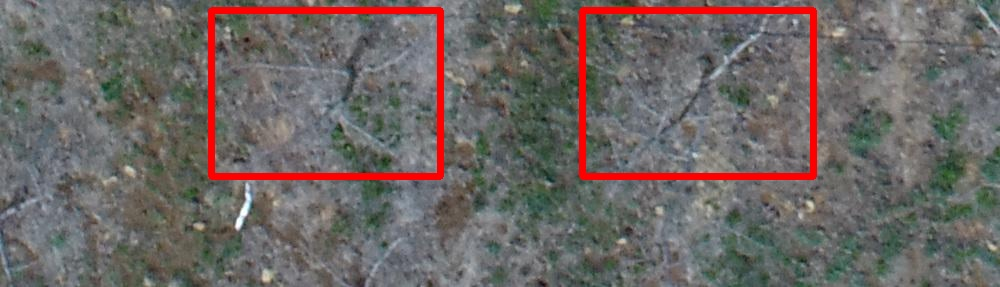apple: (582, 10, 813, 176), (211, 10, 440, 176)
